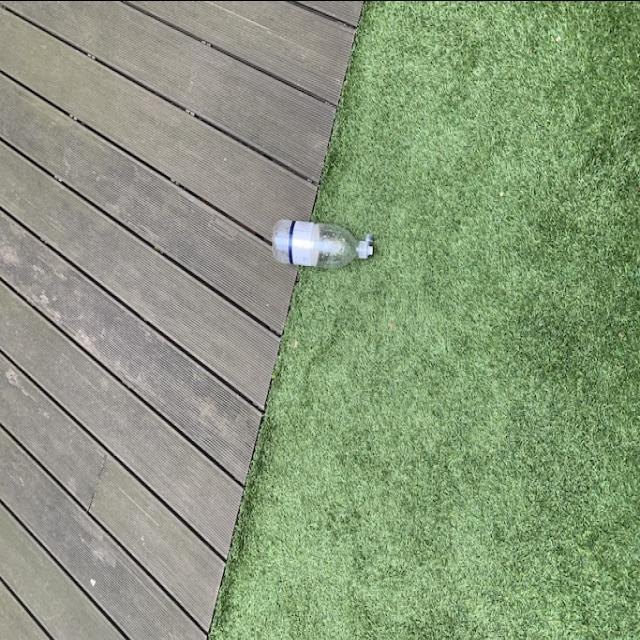litter: (272, 212, 376, 274)
